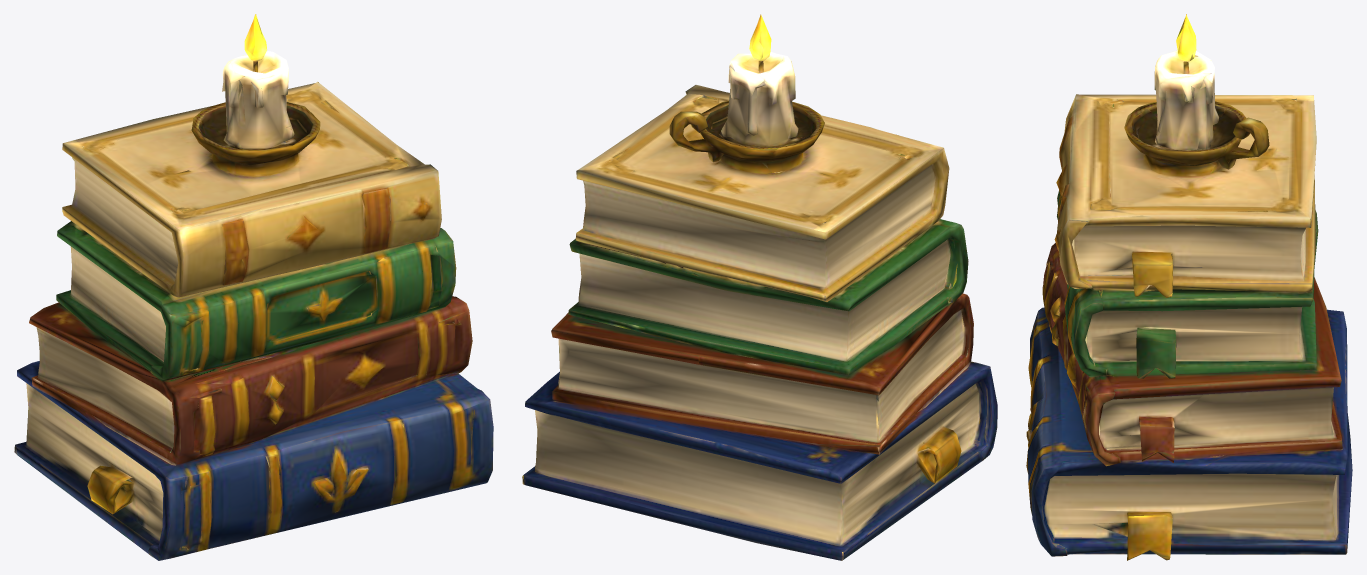
File: candle-tome.glb
3 renders of one model, left to right at view 1: azimuth 30°, elevation 25°; view 2: azimuth 150°, elevation 25°; view 3: azimuth 270°, elevation 25°, orthographic. The views are drawn at different scales.
Visible parts, largest first — view 1: Mesh1.0; view 2: Mesh1.0; view 3: Mesh1.0.
Part boxes in pixels (bbox=[...]): Mesh1.0: bbox=[14, 14, 493, 560]; Mesh1.0: bbox=[522, 14, 997, 560]; Mesh1.0: bbox=[1026, 14, 1352, 560].
Bounding box in the file's own units: 1.54 × 1.9 × 1.21.
1 material, 1 textured.
